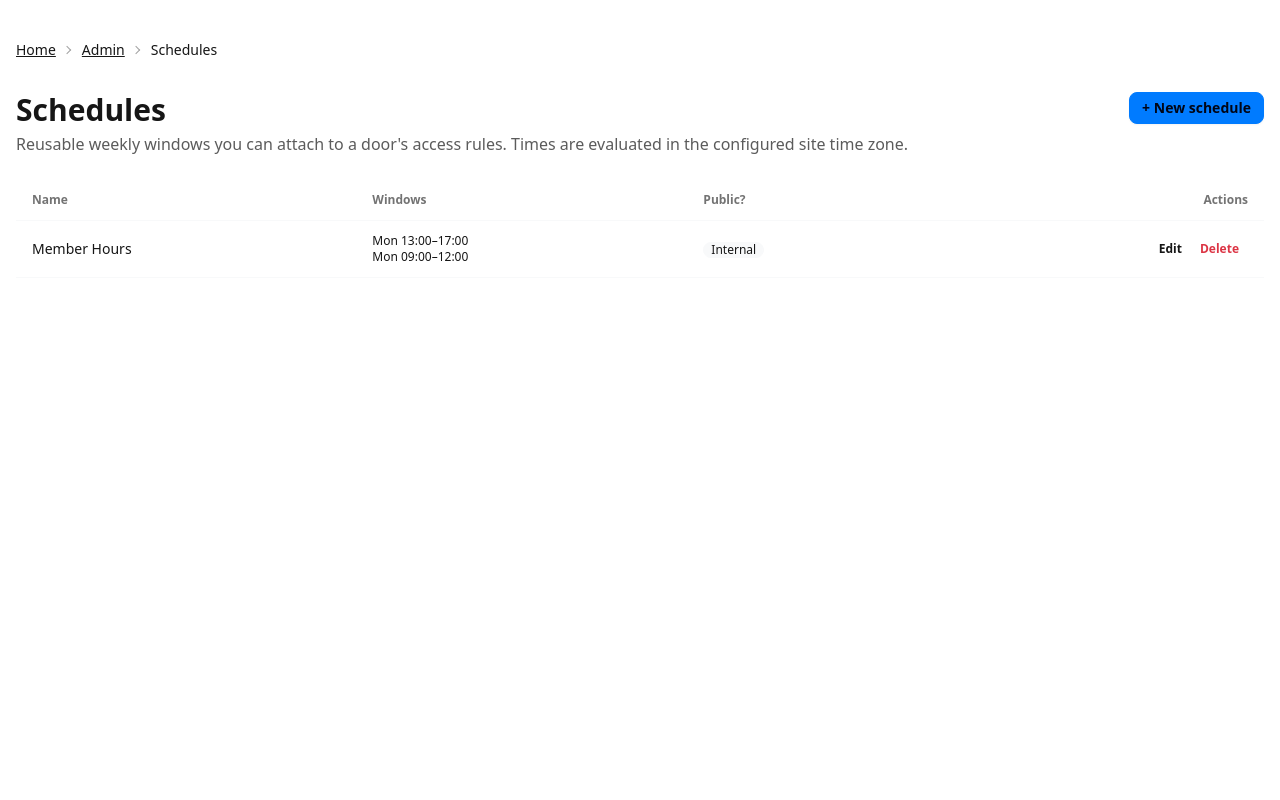
Test: the window editor › edits a different window than the one being typed into
The image size is (1280, 800).
Click the button "Edit" at {"x": 1170, "y": 249}, box x1=1150 y1=237 x2=1191 y2=261
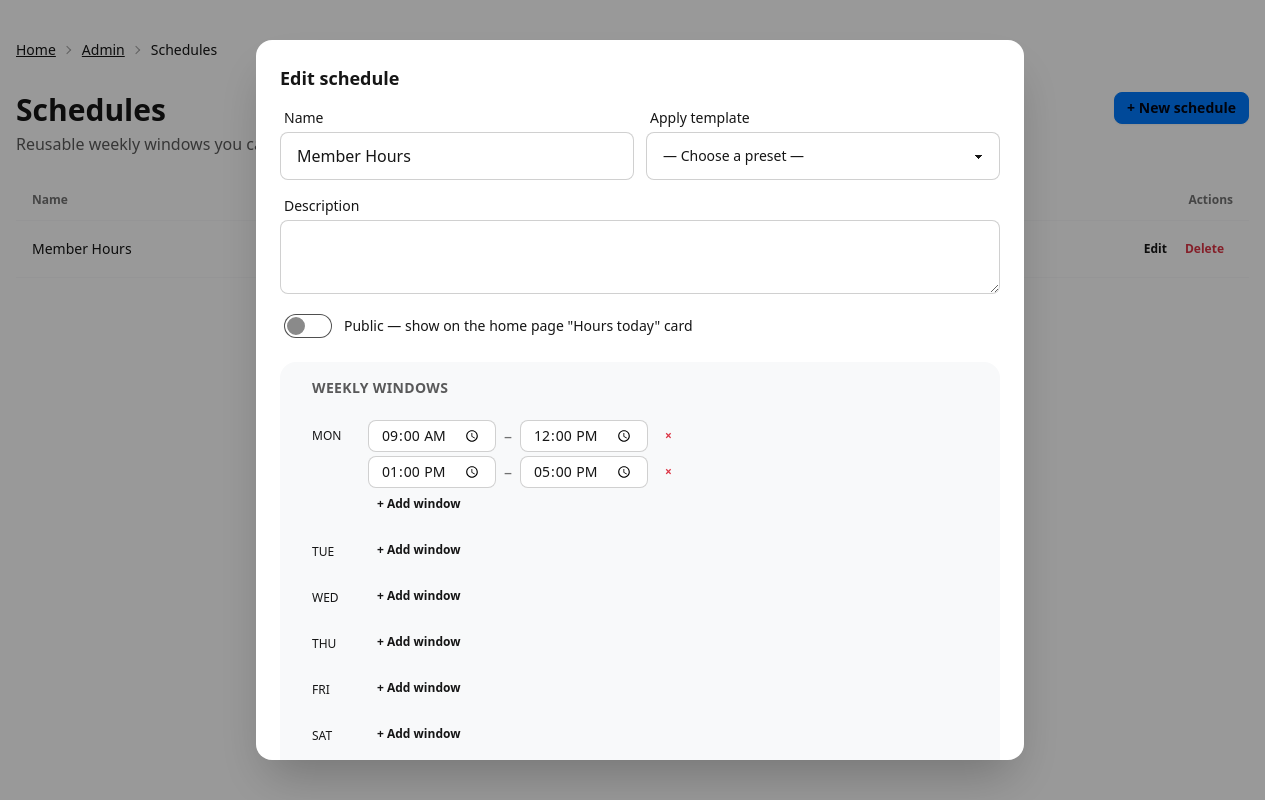
Replace the text in the 2nd time field with "11:00" at {"x": 584, "y": 436}, box x1=520 y1=420 x2=648 y2=452
(page scrolled)
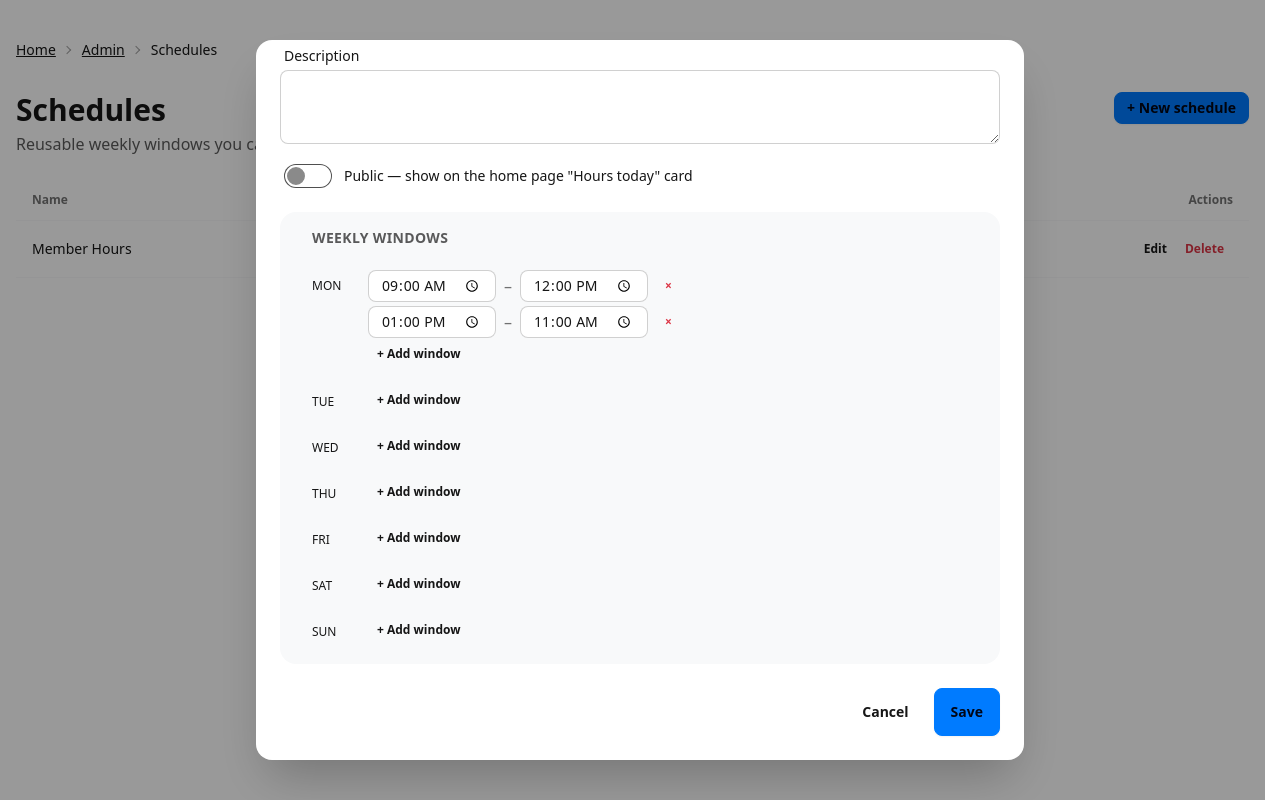
Click the button "Save" at {"x": 967, "y": 712}, box x1=934 y1=688 x2=1000 y2=736
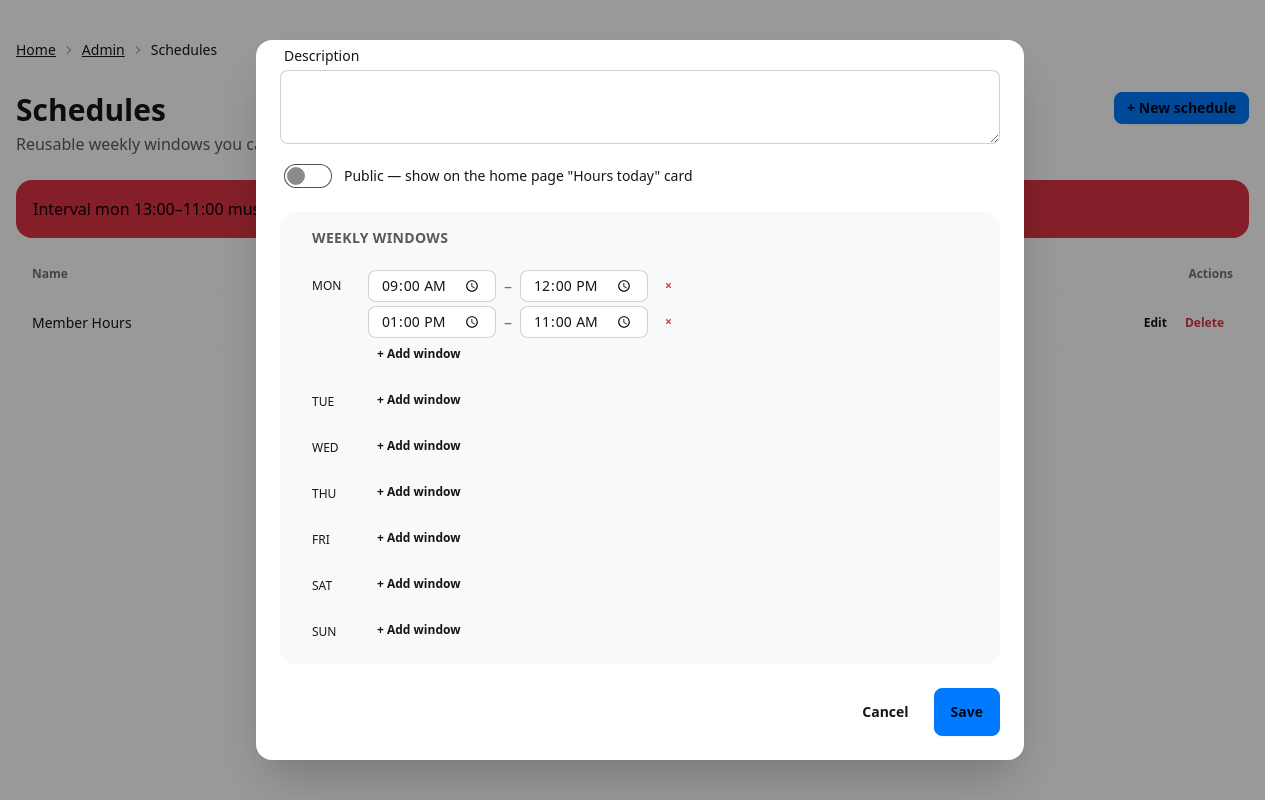
Check: the element with class "alert-error" shows "mon 13:00–11:00", box x1=33 y1=198 x2=400 y2=220
